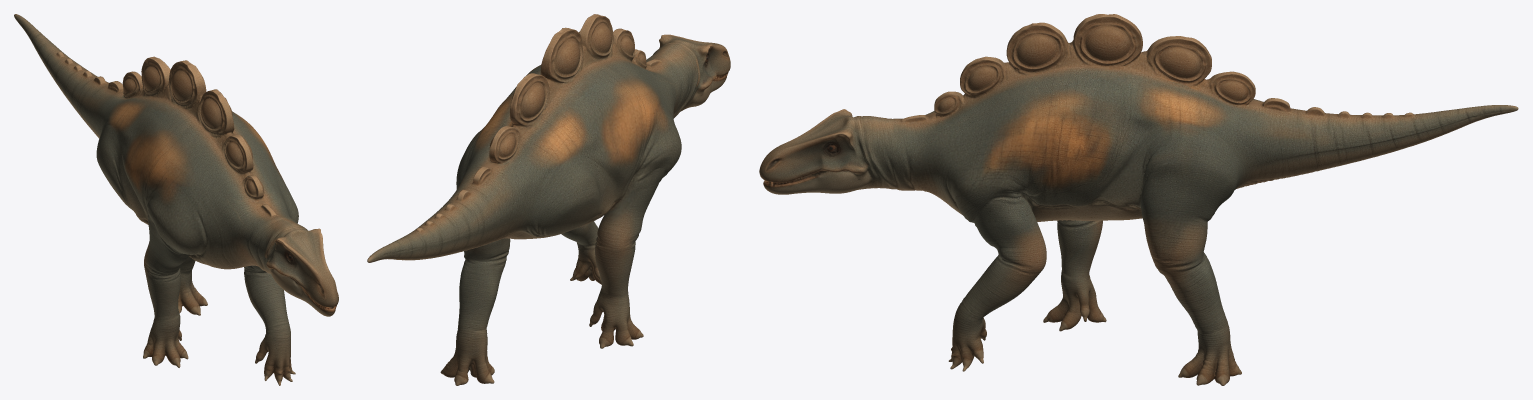
Rendered from Ankylosaur.glb.
3 renders of one model, left to right at view 1: azimuth 30°, elevation 25°; view 2: azimuth 150°, elevation 25°; view 3: azimuth 270°, elevation 25°, orthographic. The views are drawn at different scales.
Size of the model in its own units: 0.4265 by 0.9335 by 1.9.
1 material, 1 textured.
